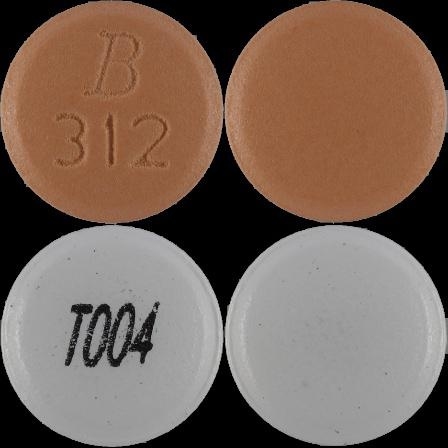24658-312: (0, 0, 224, 224)
